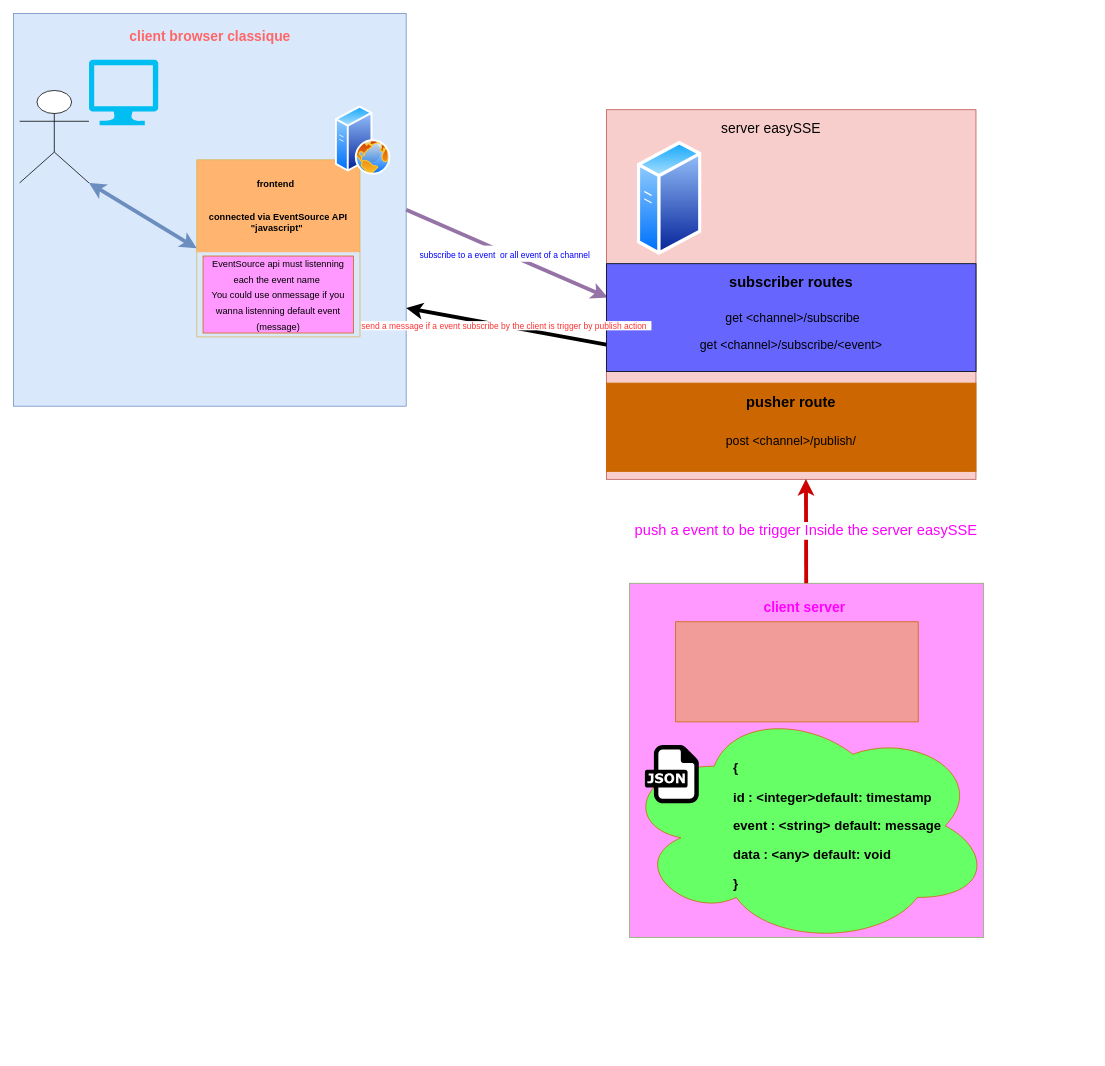
Image size: 1105x1066. Some labels were removed from this diagram. Here are the shapes that lost their labels. From the top down, the centre of each, then its label:
point (54, 136): user
point (796, 671): BY HTTP post classique with this payload :
